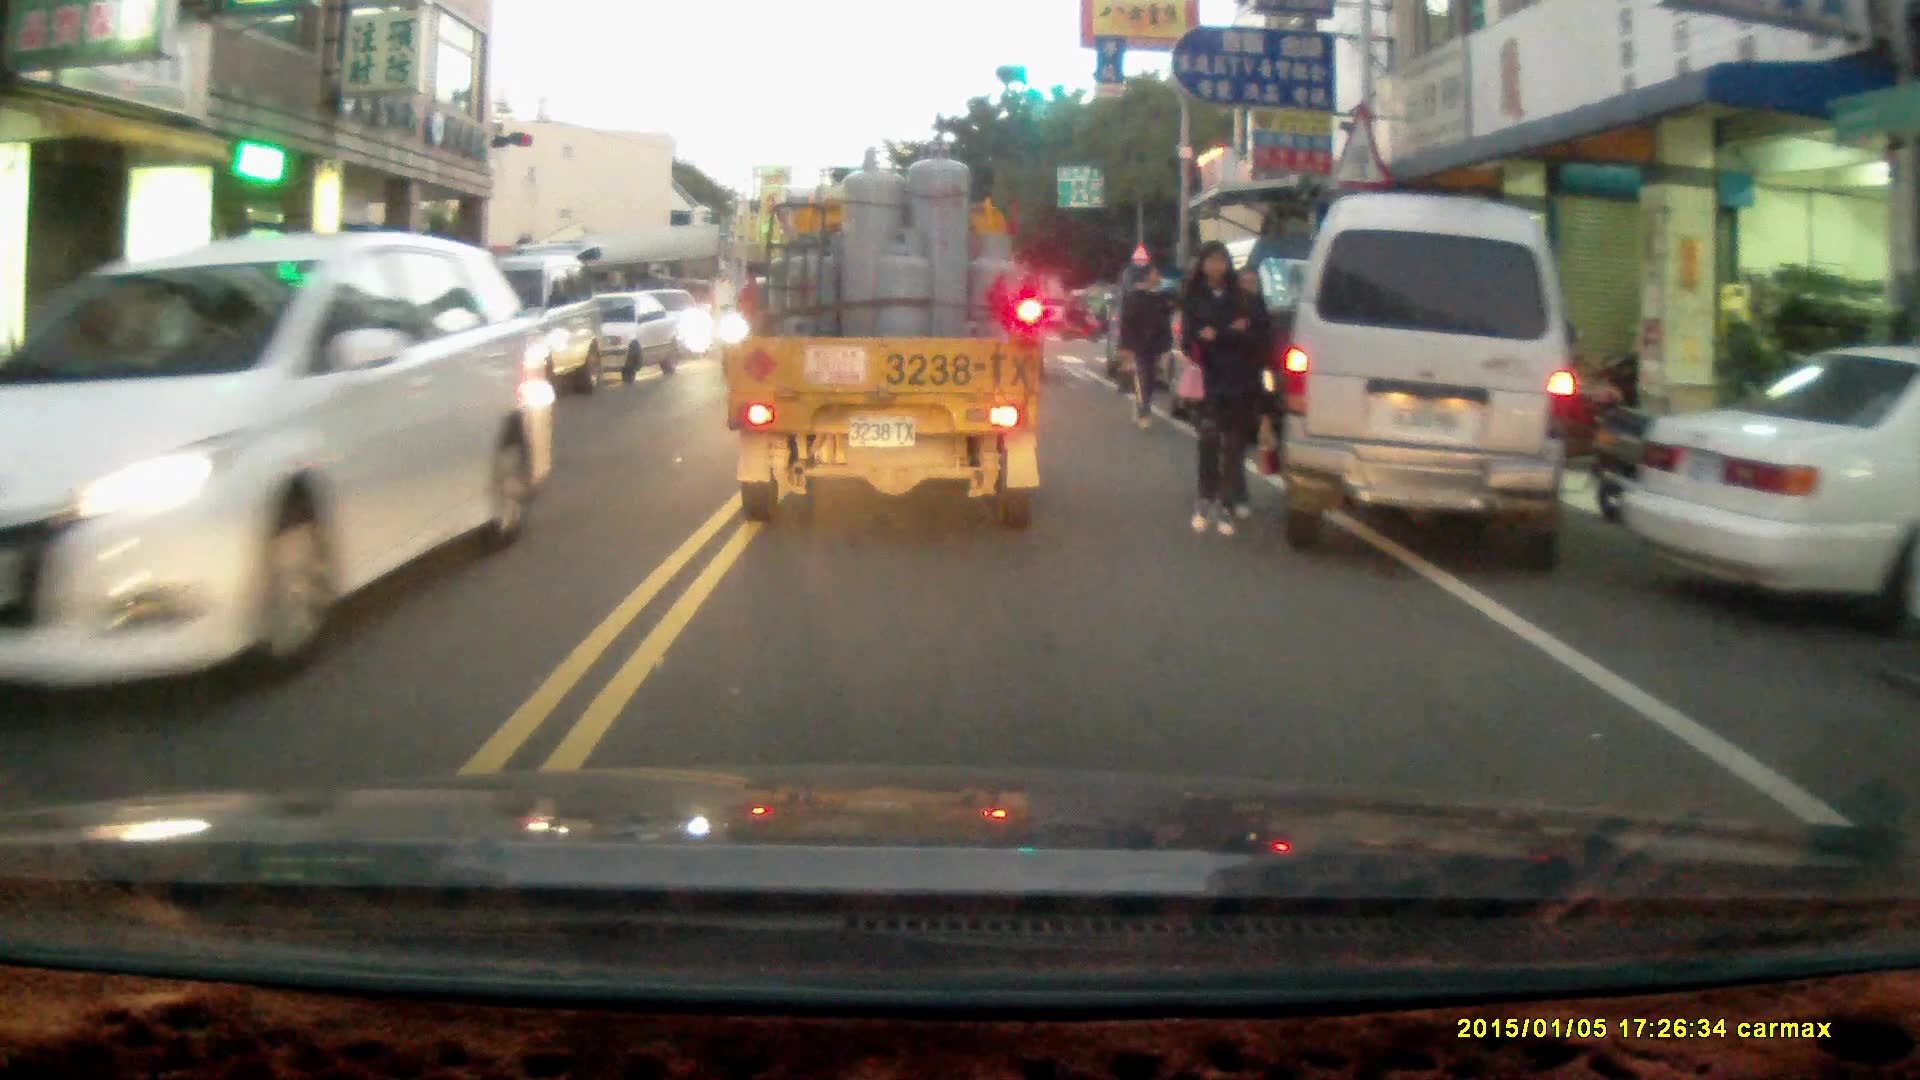pedestrian: (1177, 239, 1263, 541), (1119, 260, 1173, 428)
rider: (1060, 289, 1102, 342)
vehicle: (1, 231, 573, 669), (719, 139, 1051, 532), (1272, 193, 1580, 573), (1622, 346, 1920, 623), (392, 248, 606, 417), (537, 288, 684, 388)
